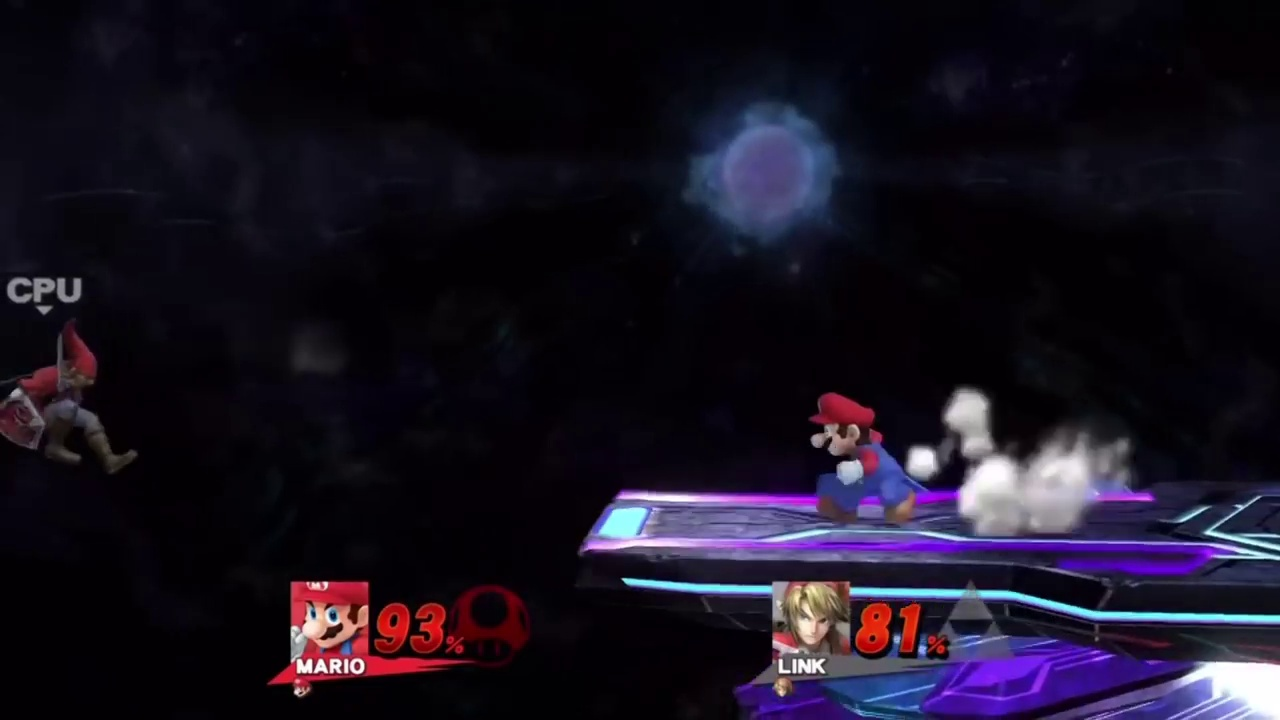Mario: (809, 393, 915, 524)
